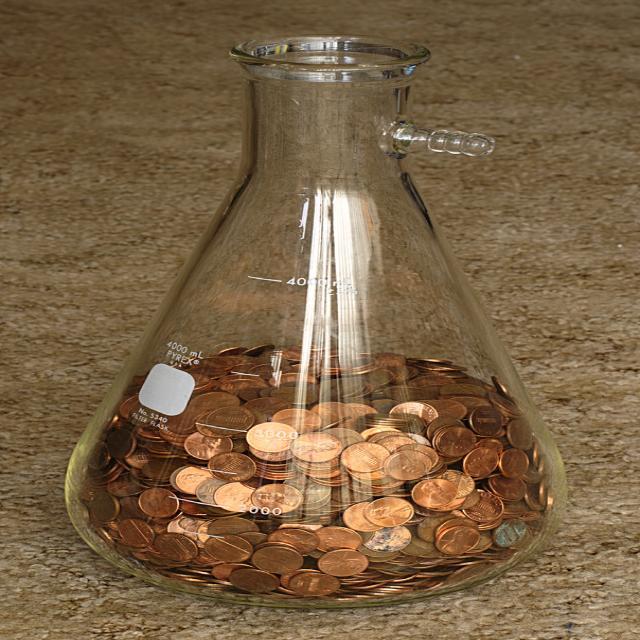Coin: (75, 342, 557, 610)
